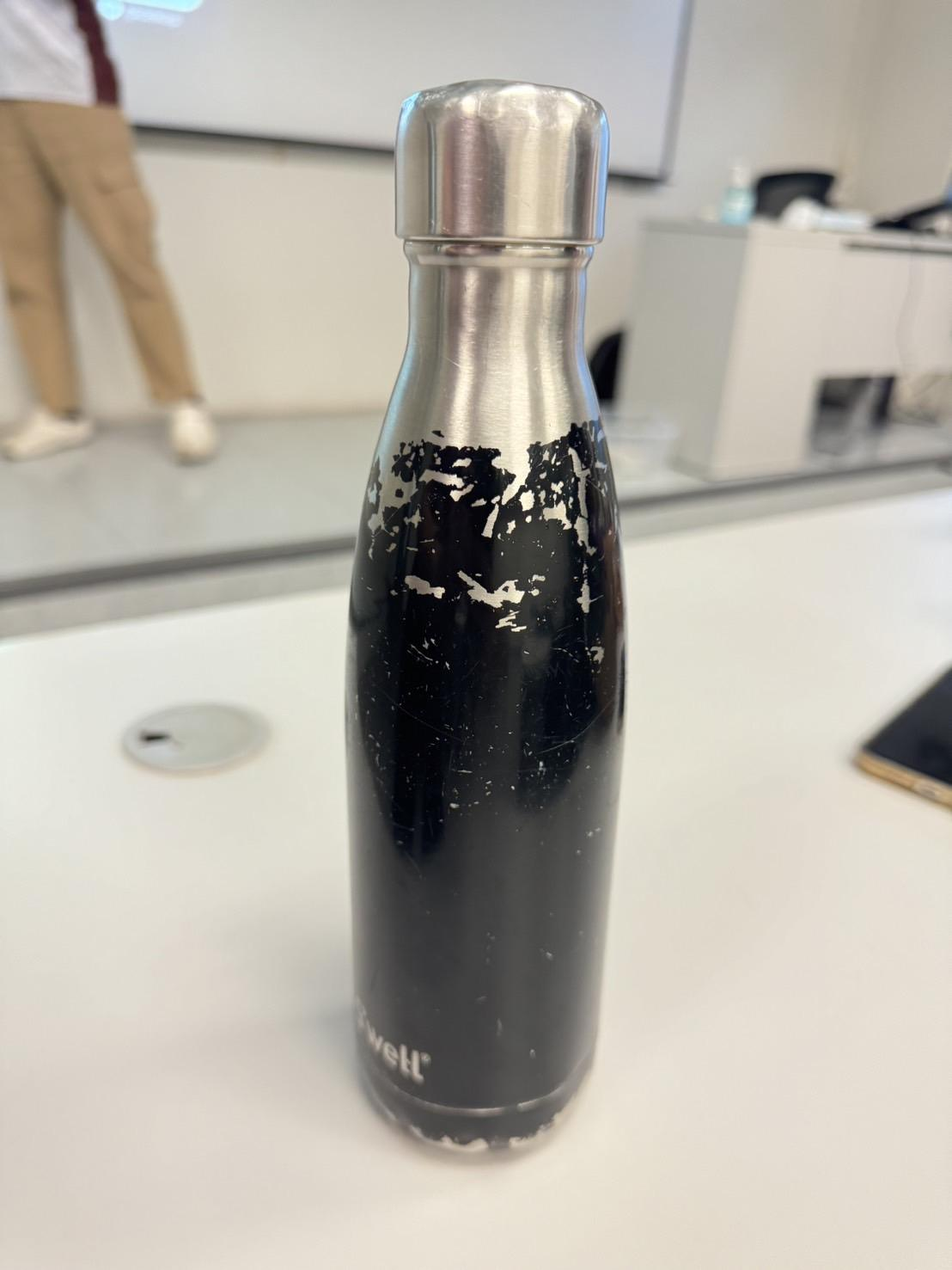Bottle: (346, 81, 624, 1150)
